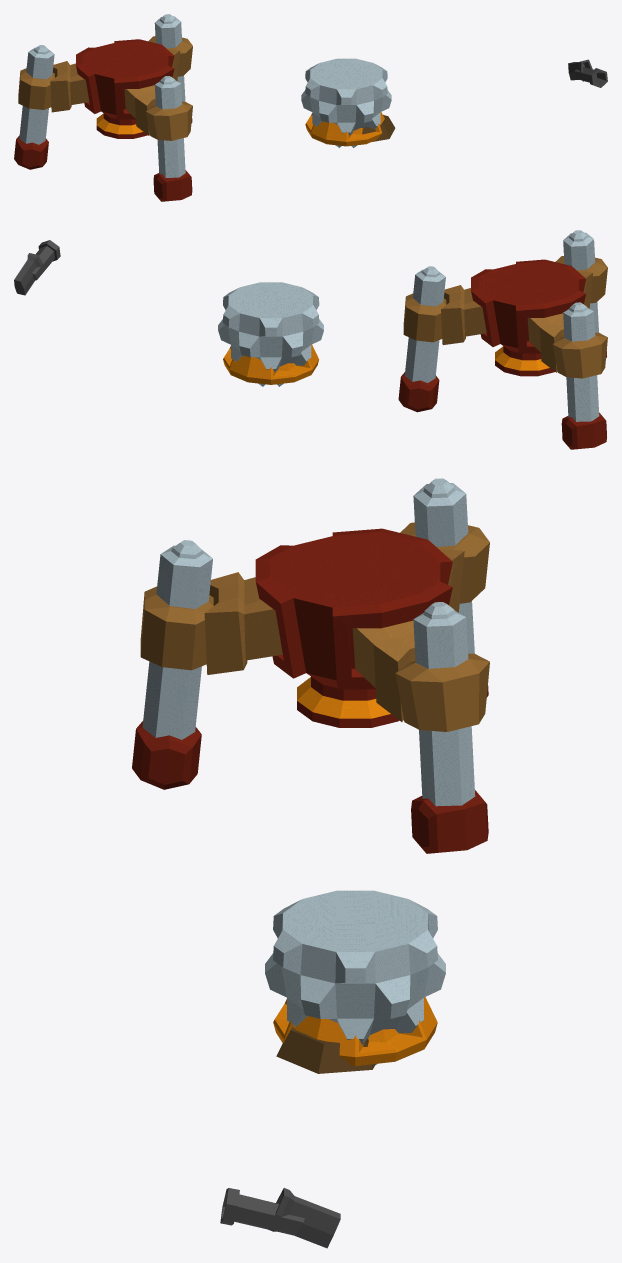
Rendered from Boss_1.glb.
3 renders of one model, top to bottom at view 1: azimuth 30°, elevation 25°; view 2: azimuth 150°, elevation 25°; view 3: azimuth 270°, elevation 25°, orthographic. The views are drawn at different scales.
Parts seen in each view (by area): view 1: Body, Drill, Middle, Cone.010, foot, Top_gun; view 2: Body, Drill, Middle, Top_gun, Cone.010; view 3: Body, Drill, Middle, foot, Cone.010, Top_gun.
Boxes of the visible parts, x1=… form: Body: x1=14, y1=14, x2=192, y2=201; Drill: x1=301, y1=58, x2=391, y2=147; Middle: x1=305, y1=112, x2=384, y2=146; Cone.010: x1=574, y1=67, x2=607, y2=87; foot: x1=362, y1=115, x2=395, y2=141; Top_gun: x1=568, y1=59, x2=592, y2=81; Body: x1=398, y1=230, x2=607, y2=449; Drill: x1=218, y1=282, x2=323, y2=386; Middle: x1=223, y1=344, x2=318, y2=384; Top_gun: x1=14, y1=253, x2=42, y2=295; Cone.010: x1=32, y1=240, x2=60, y2=280; Body: x1=132, y1=478, x2=489, y2=853; Drill: x1=265, y1=890, x2=445, y2=1065; Middle: x1=273, y1=997, x2=437, y2=1066; foot: x1=276, y1=1027, x2=375, y2=1073; Cone.010: x1=220, y1=1188, x2=304, y2=1235; Top_gun: x1=268, y1=1188, x2=340, y2=1248.
Size of the model in its own units: 16.49 by 4.43 by 4.78.
1 material, 1 textured.
